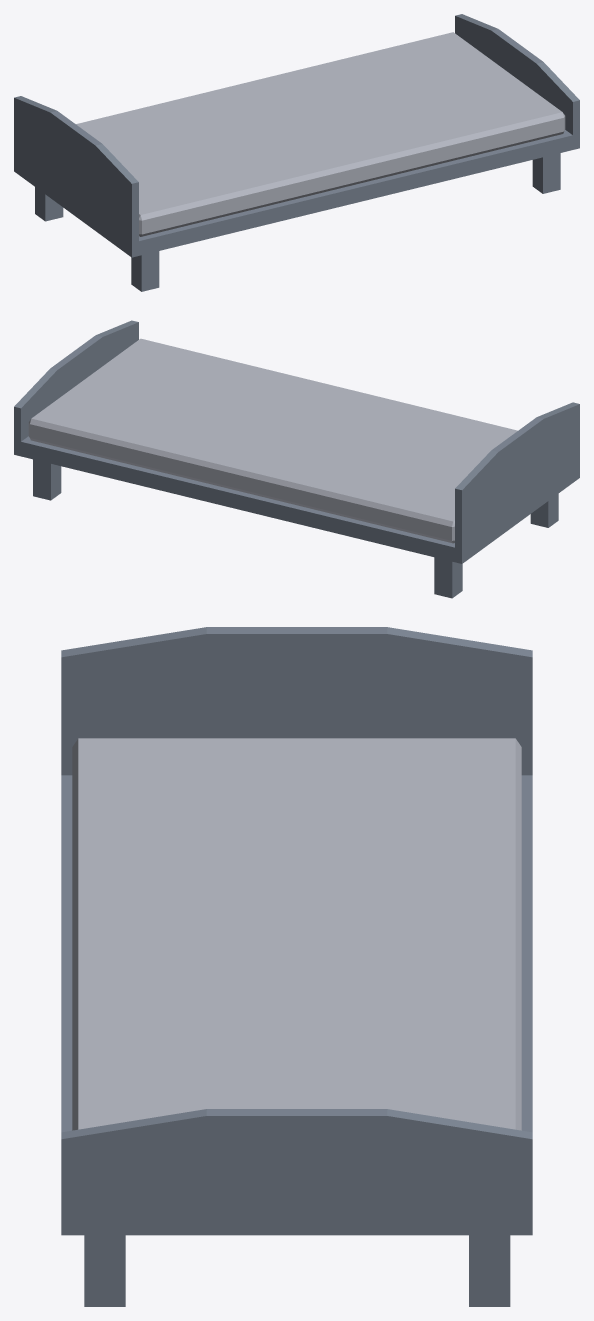
Rendered from Lit1place.fbx.
3 renders of one model, top to bottom at view 1: azimuth 30°, elevation 25°; view 2: azimuth 150°, elevation 25°; view 3: azimuth 270°, elevation 25°, orthographic. The views are drawn at different scales.
Visible parts, largest first — view 1: Lit1place; view 2: Lit1place; view 3: Lit1place.
Part boxes in pixels (bbox=[...]): Lit1place: bbox=[14, 14, 579, 291]; Lit1place: bbox=[14, 320, 579, 598]; Lit1place: bbox=[61, 627, 532, 1306].
Bounding box in the file's own units: 768 × 209 × 350.
